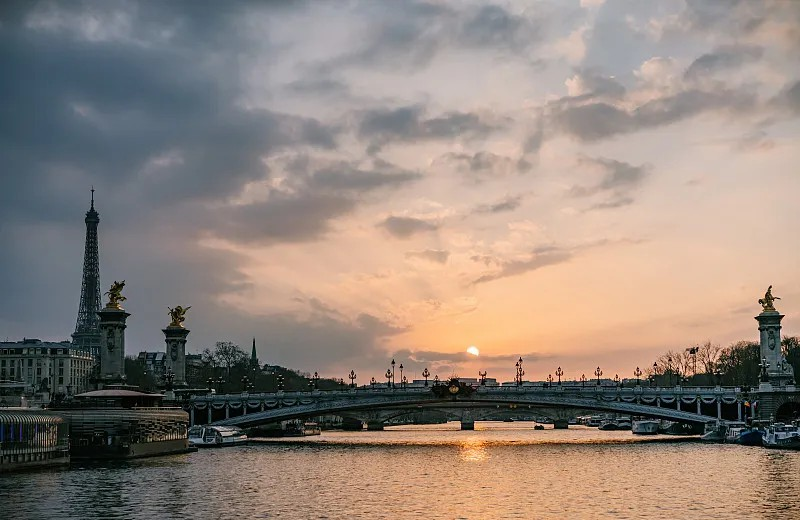Eiffel: (68, 186, 103, 349)
